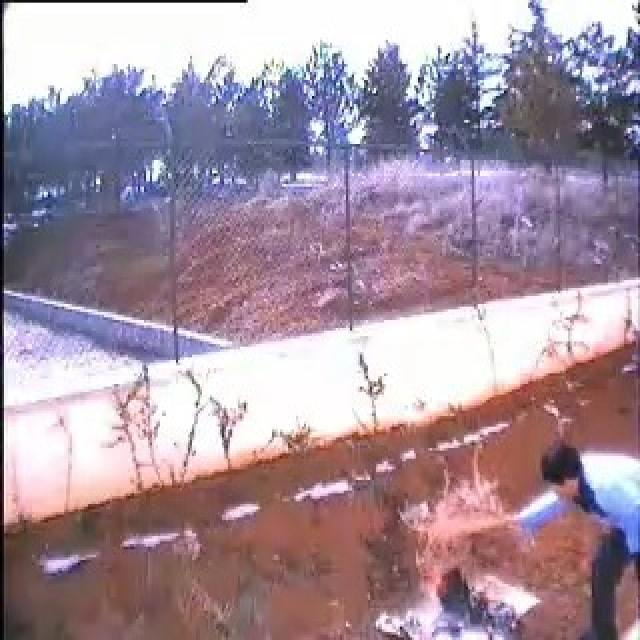smoke: (421, 589, 446, 629)
